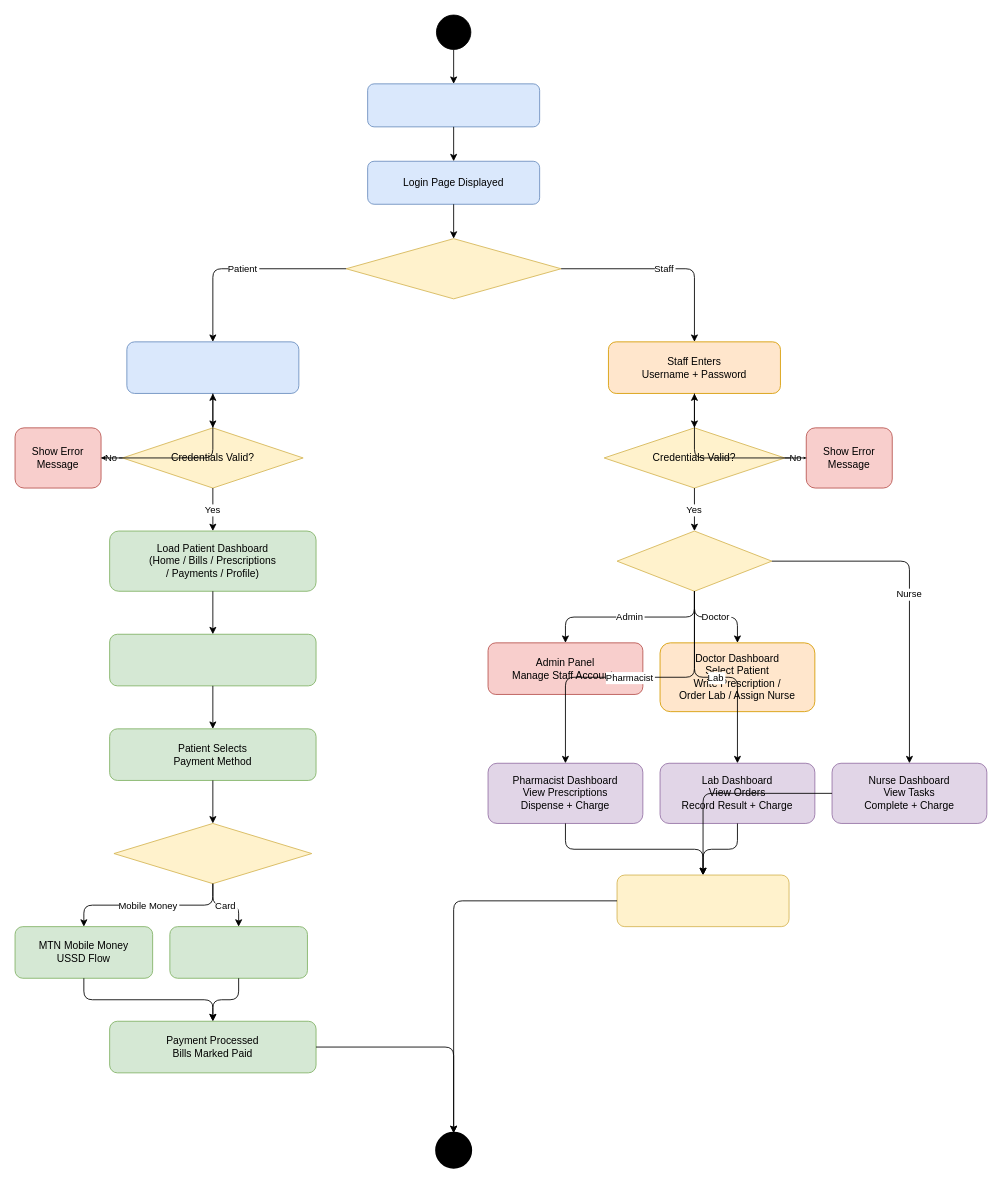
This 1002x1183 diagram has some shape labels left out. The box of each missing label's shape, as (x1, y1, x2, y2) in pixels:
Charge Auto-Added to Patient Bill: (616, 874, 789, 927)
Patient Enters Name + DOB + PIN: (126, 341, 299, 393)
Patient or Staff?: (345, 238, 561, 299)
Patient Views Bill (Real-time charges): (109, 633, 316, 686)
Payment Method?: (113, 823, 312, 884)
Role?: (616, 530, 772, 591)
User Opens App: (367, 83, 540, 127)
Visa / Mastercard Card Entry Form: (169, 926, 307, 978)
